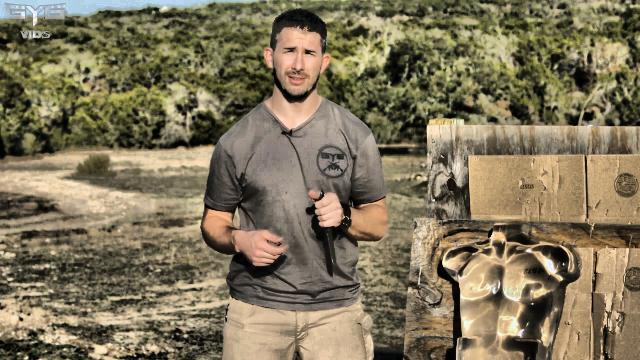knife: (304, 186, 342, 268)
